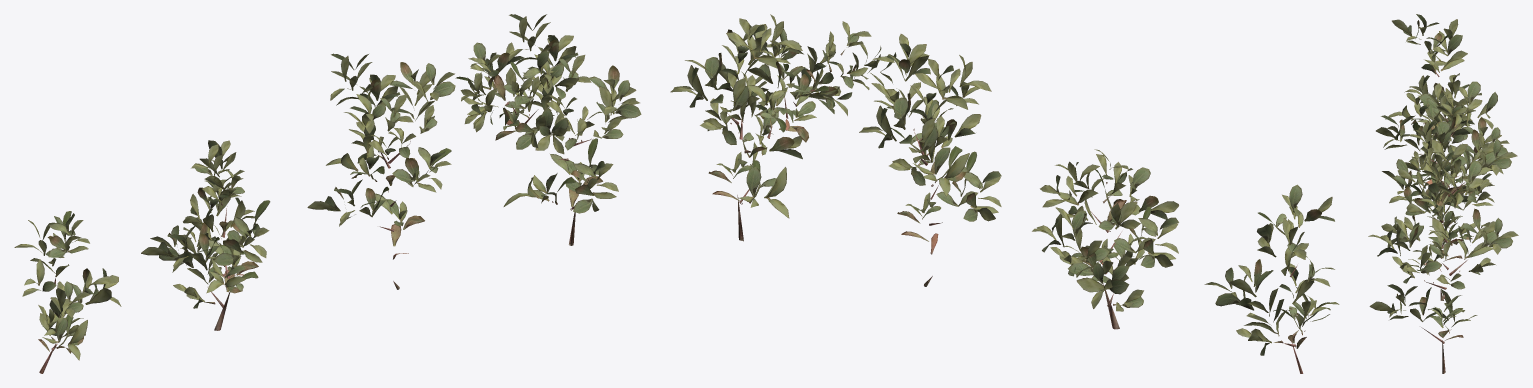
File: shrub_04.0487a152.glb
3 views of the same model, side by side, from view 1: azimuth 30°, elevation 25°; view 2: azimuth 150°, elevation 25°; view 3: azimuth 270°, elevation 25° (orthographic). The views are drawn at different scales.
Parts seen in each view (by area): view 1: shrub_04; view 2: shrub_04; view 3: shrub_04.
Boxes of the visible parts, <box> form: shrub_04: <box>14,14,641,373</box>; shrub_04: <box>670,14,1339,373</box>; shrub_04: <box>1368,14,1518,373</box>.
Size of the model in its own units: 0.5837 by 0.2192 by 0.1461.
Materials: 1 (1 with a texture image).
